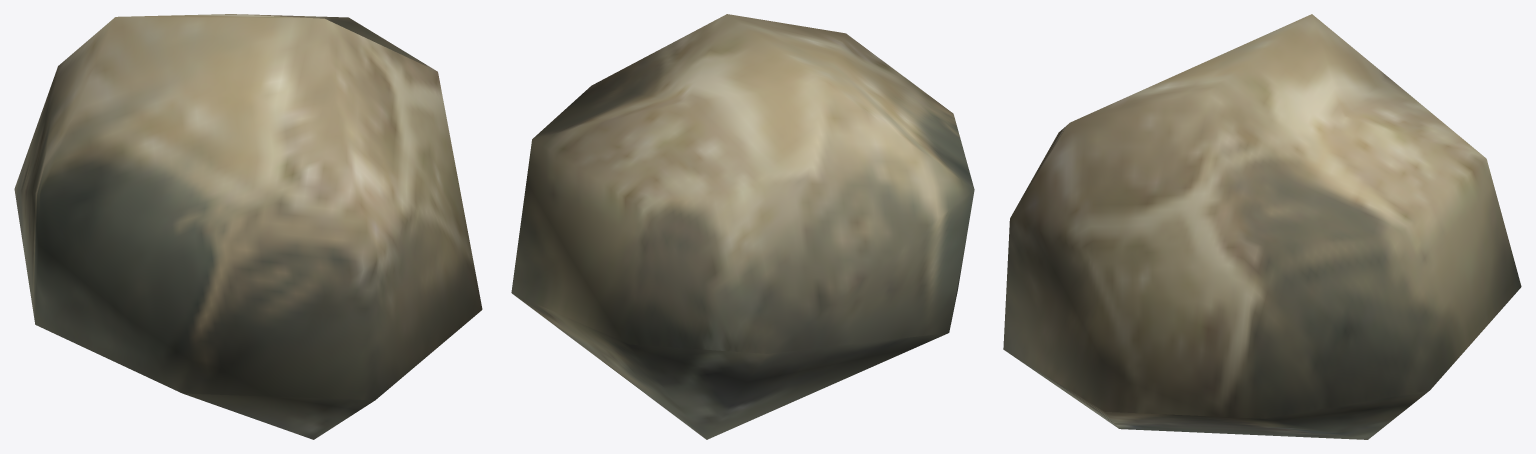
The model's file is WK_stone.FBX.
3 renders of one model, left to right at view 1: azimuth 30°, elevation 25°; view 2: azimuth 150°, elevation 25°; view 3: azimuth 270°, elevation 25°, orthographic. The views are drawn at different scales.
Parts seen in each view (by area): view 1: WK_Catapult_rock; view 2: WK_Catapult_rock; view 3: WK_Catapult_rock.
Part boxes in pixels (left/top/right/bottom): WK_Catapult_rock: left=14, top=14, right=482, bottom=439; WK_Catapult_rock: left=511, top=14, right=974, bottom=439; WK_Catapult_rock: left=1003, top=14, right=1521, bottom=439.
Size of the model in its own units: 20.13 by 17.46 by 21.65.
